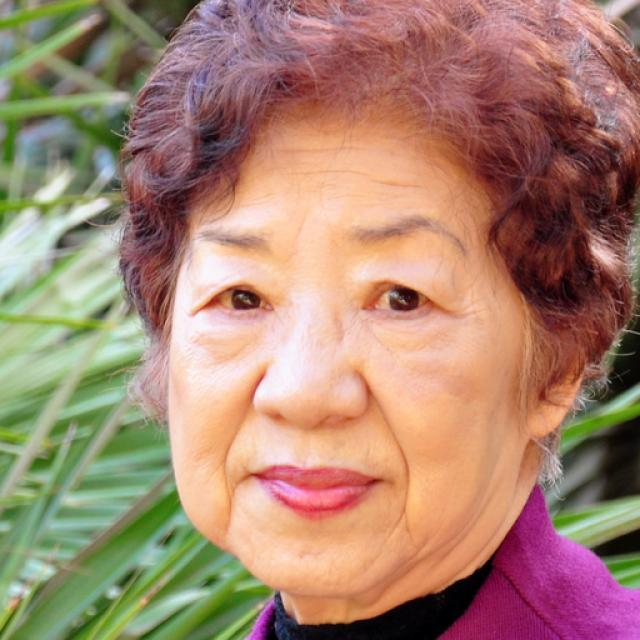content: (165, 71, 526, 595)
